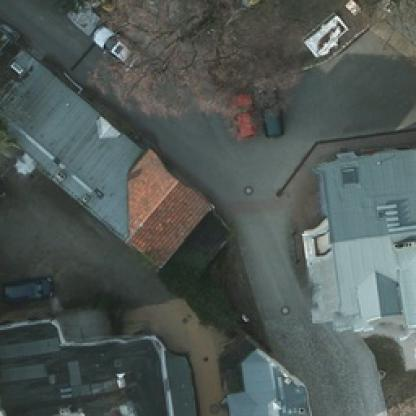car: (88, 22, 143, 76), (0, 268, 52, 301), (224, 84, 254, 140), (258, 81, 280, 138)
